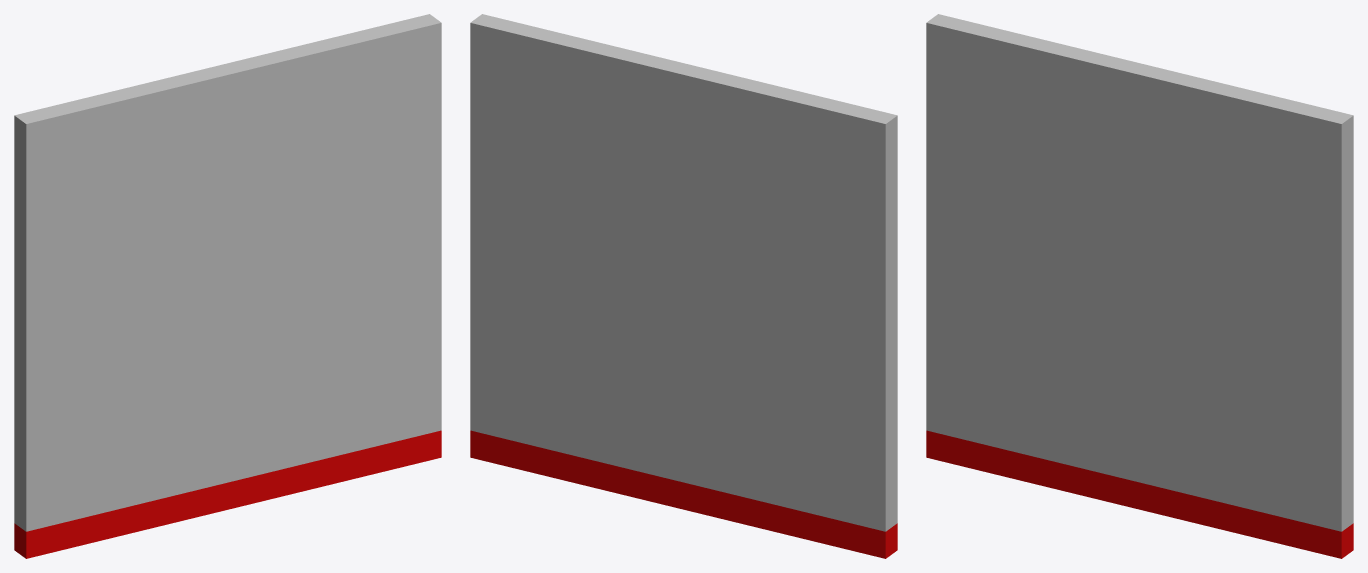
File: Wall_06_Snaps014.fbx
The picture shows the model from 3 angles, left to right: view 1: azimuth 30°, elevation 25°; view 2: azimuth 150°, elevation 25°; view 3: azimuth 330°, elevation 25°; orthographic projection.
Parts seen in each view (by area): view 1: Wall_06_LOD00; view 2: Wall_06_LOD00; view 3: Wall_06_LOD00.
Part boxes in pixels (left/top/right/bottom): Wall_06_LOD00: left=14, top=14, right=441, bottom=558; Wall_06_LOD00: left=470, top=14, right=897, bottom=558; Wall_06_LOD00: left=926, top=14, right=1353, bottom=558.
Bounding box in the file's own units: 400 × 400 × 20.
